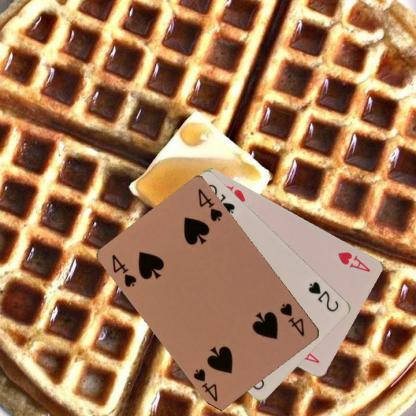2s: (306, 279, 340, 313)
4s: (110, 251, 140, 289), (277, 300, 306, 338)
Ah: (335, 249, 372, 273)
